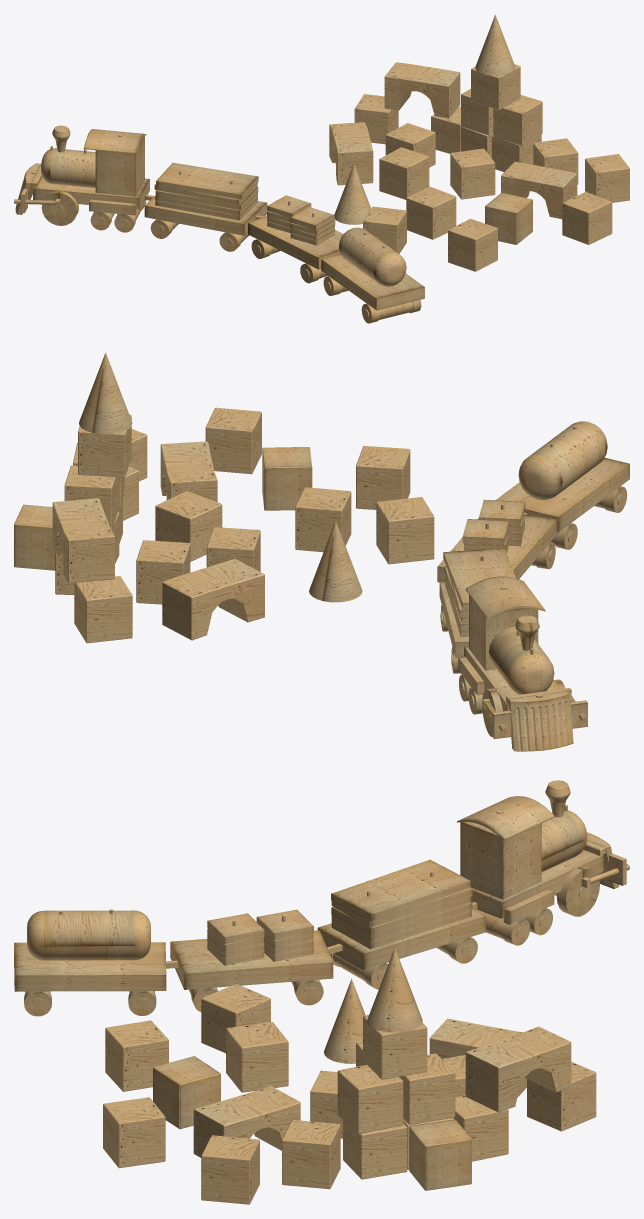
File: WoodenTrain.fbx
3 renders of one model, top to bottom at view 1: azimuth 30°, elevation 25°; view 2: azimuth 150°, elevation 25°; view 3: azimuth 270°, elevation 25°, orthographic. The views are drawn at different scales.
Parts seen in each view (by area): view 1: uploads_files_48673_train; view 2: uploads_files_48673_train; view 3: uploads_files_48673_train.
Boxes of the visible parts, x1,y1,x2,y2 form: uploads_files_48673_train: [14, 15, 629, 323]; uploads_files_48673_train: [14, 353, 629, 751]; uploads_files_48673_train: [14, 780, 629, 1204].
Size of the model in its own units: 4329 by 1278 by 3380.
